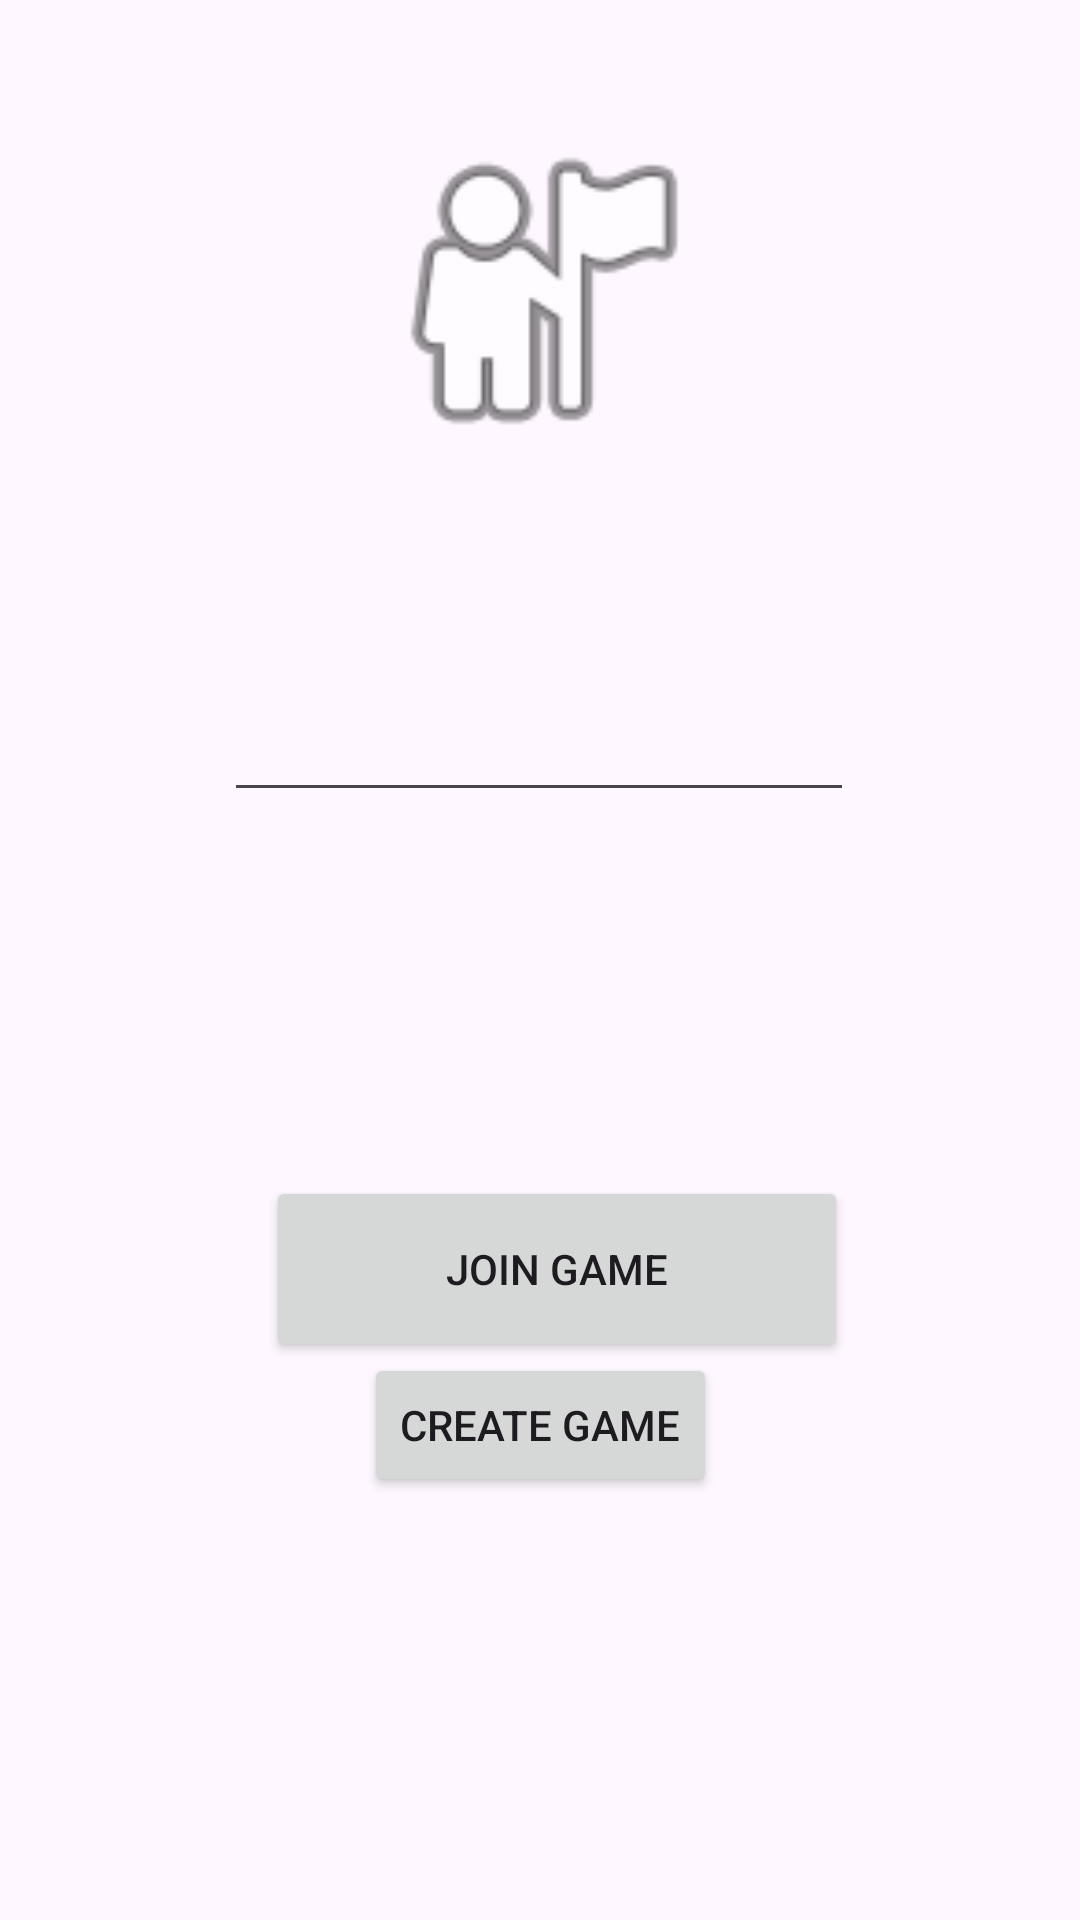

Where icons sit on this 1080 × 1920 app screen, as [x1,y1,x2,y2]:
myplaces: [411,158,678,424]
